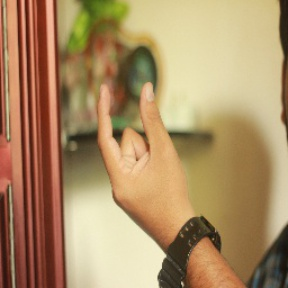U: (89, 73, 184, 209)
